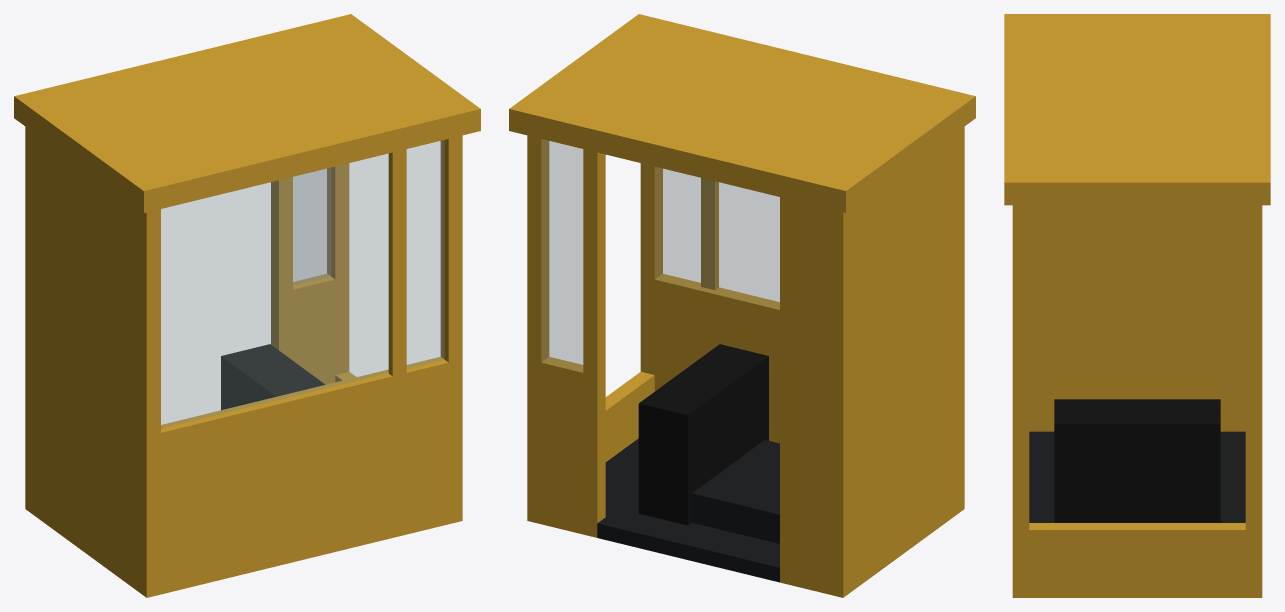
Rendered from excavator_cab.glb.
The picture shows the model from 3 angles, left to right: view 1: azimuth 30°, elevation 25°; view 2: azimuth 150°, elevation 25°; view 3: azimuth 270°, elevation 25°; orthographic projection. The views are drawn at different scales.
Visible parts, largest first — view 1: body:compound; view 2: body:compound; view 3: body:compound.
Boxes of the visible parts, x1,y1,x2,y2 form: body:compound: [14, 14, 480, 597]; body:compound: [509, 14, 975, 597]; body:compound: [1004, 14, 1270, 597].
Bounding box in the file's own units: 1.5 × 1.75 × 1.
